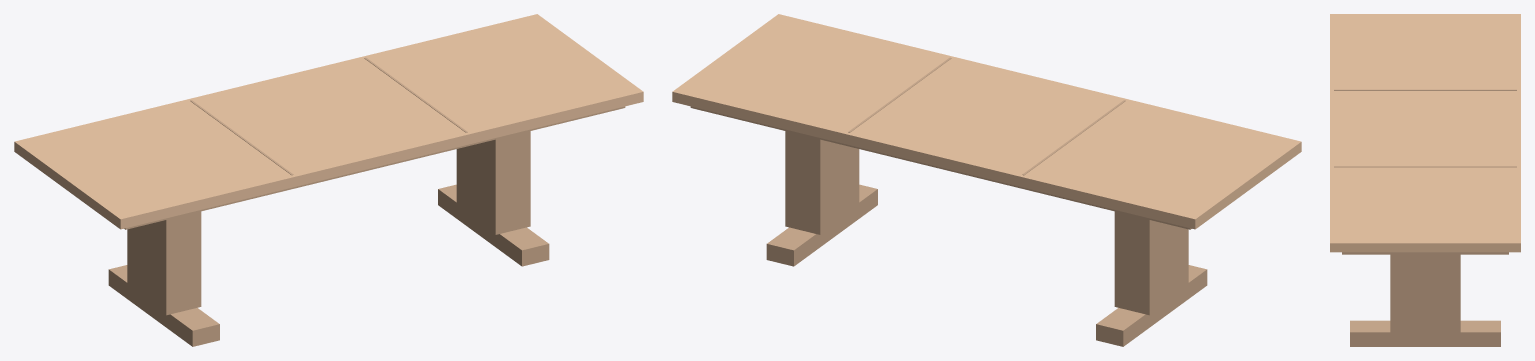
File: diningExtendable.glb
3 renders of one model, left to right at view 1: azimuth 30°, elevation 25°; view 2: azimuth 150°, elevation 25°; view 3: azimuth 270°, elevation 25°, orthographic. The views are drawn at different scales.
Parts seen in each view (by area): view 1: diningExtendable; view 2: diningExtendable; view 3: diningExtendable.
Boxes of the visible parts, x1,y1,x2,y2 form: diningExtendable: [14, 14, 643, 346]; diningExtendable: [672, 14, 1301, 346]; diningExtendable: [1330, 14, 1520, 346].
Size of the model in its own units: 1.35 by 0.386 by 0.475.
